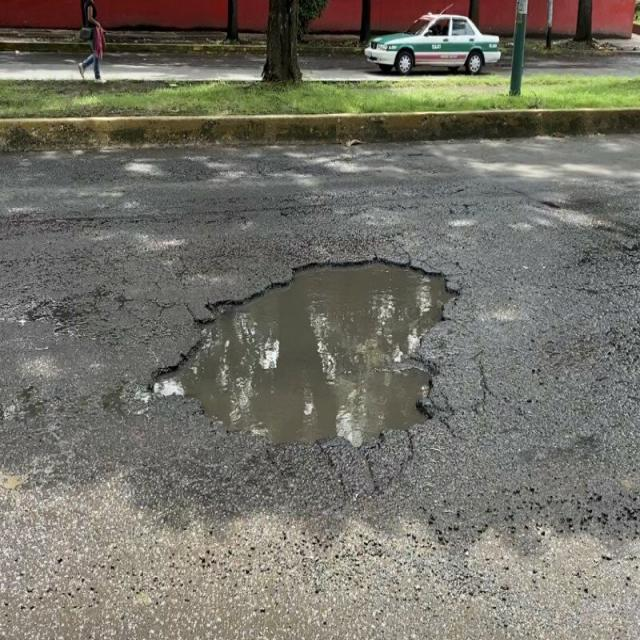Pothole: (143, 211, 484, 496)
